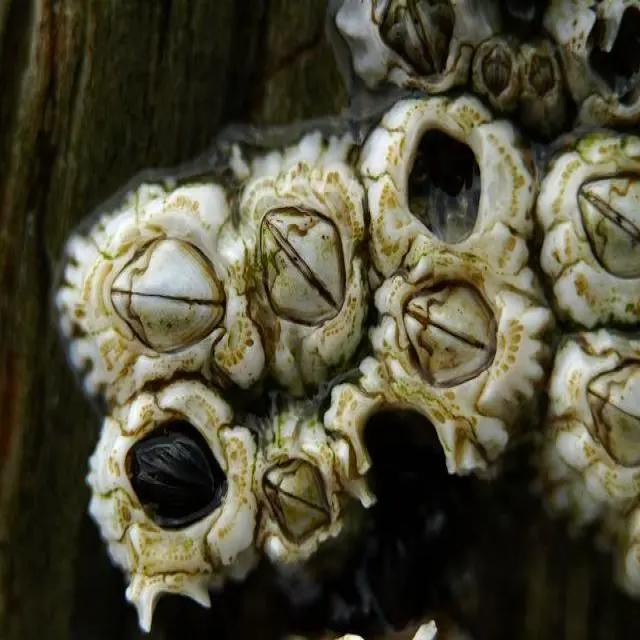barnacles: (66, 172, 254, 390), (242, 129, 371, 383), (342, 88, 513, 262), (359, 281, 542, 417), (546, 122, 640, 323), (542, 330, 640, 522), (260, 410, 346, 580), (330, 0, 466, 93), (516, 42, 566, 128), (471, 37, 520, 111)
